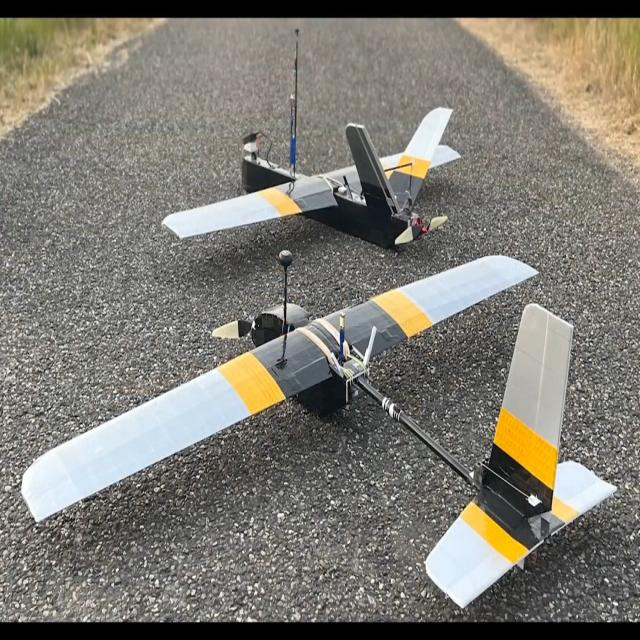iha: (22, 257, 617, 609), (165, 95, 465, 257)
